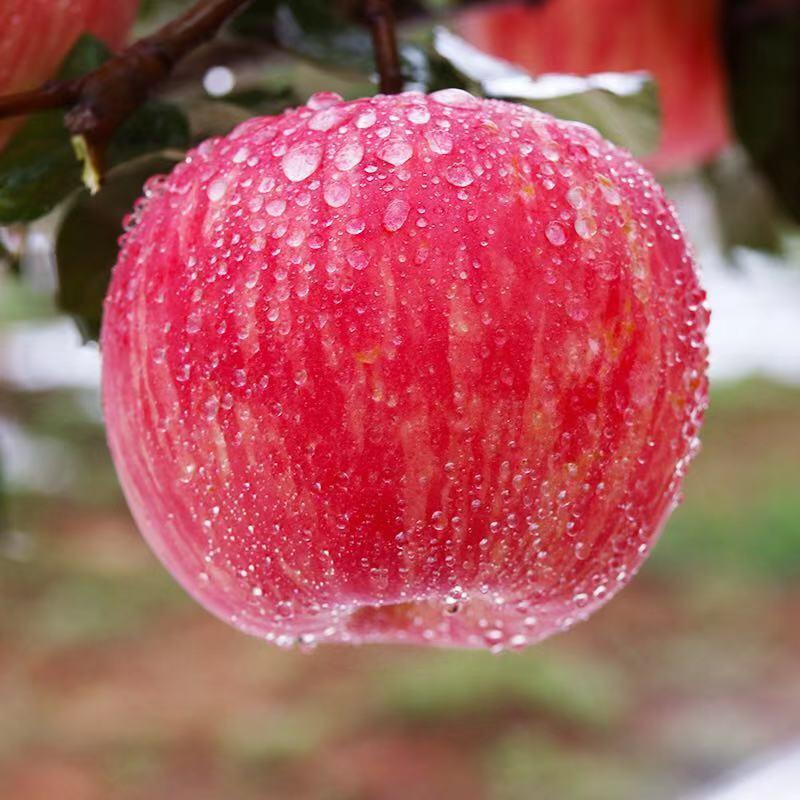apple: (96, 92, 703, 647)
